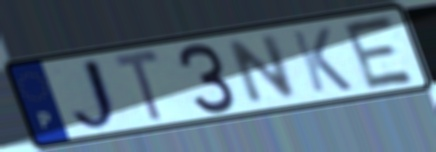3: (175, 40, 237, 117)
E: (340, 12, 420, 92)
J: (69, 55, 125, 133)
K: (288, 25, 356, 96)
N: (226, 32, 301, 108)
T: (110, 47, 166, 126)
